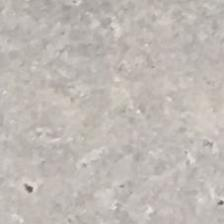Non_Crack: (31, 36, 179, 194)
